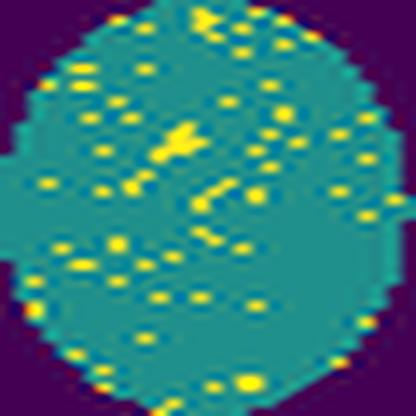Loc: (150, 118, 212, 165)
